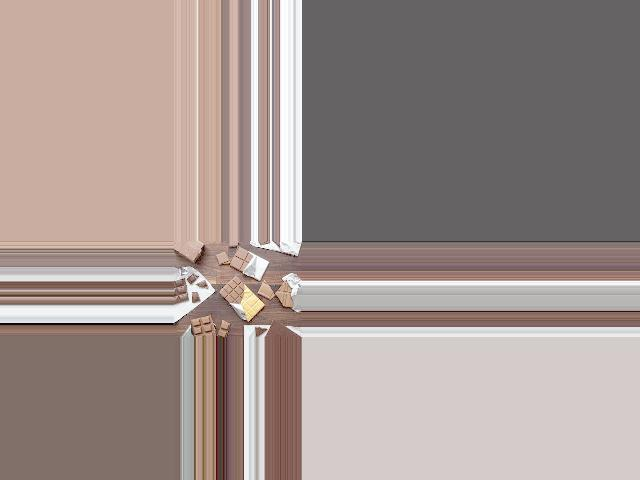chocolate: (230, 243, 266, 281)
